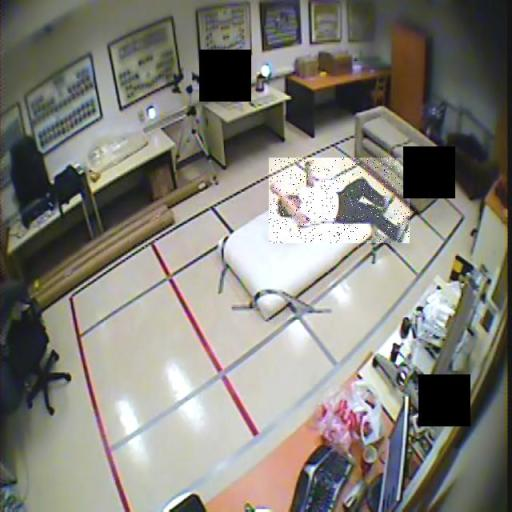Fall: (269, 158, 410, 243)
